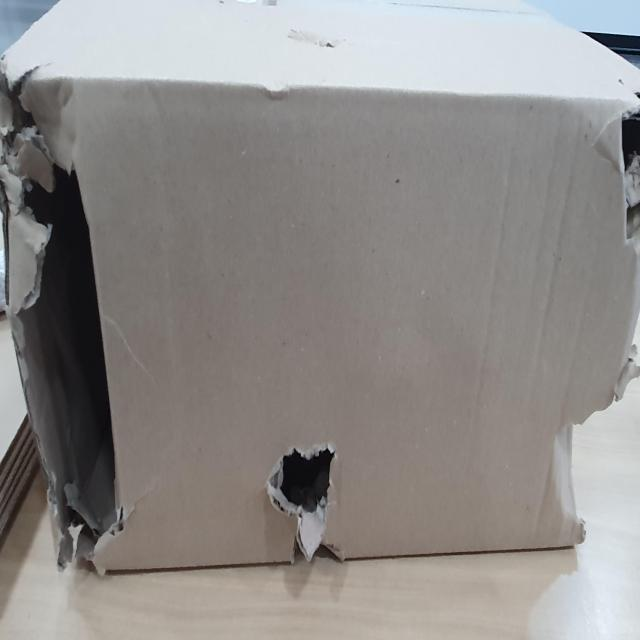damaged: (1, 64, 123, 575), (264, 434, 342, 572), (604, 85, 640, 251)
